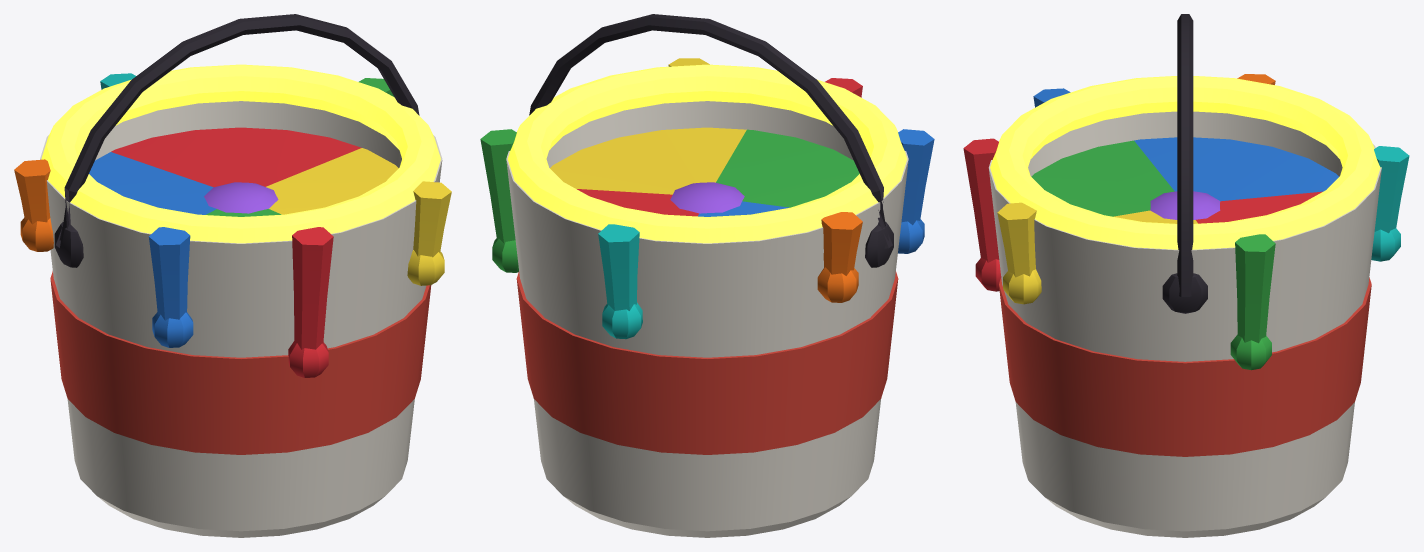
File: paint_bucket.glb
The picture shows the model from 3 angles, left to right: view 1: azimuth 30°, elevation 25°; view 2: azimuth 150°, elevation 25°; view 3: azimuth 270°, elevation 25°; orthographic projection. The views are drawn at different scales.
Visible parts, largest first — view 1: paint_bucket; view 2: paint_bucket; view 3: paint_bucket.
Boxes of the visible parts, <box> form: paint_bucket: <box>14,14,451,537</box>; paint_bucket: <box>480,14,934,537</box>; paint_bucket: <box>963,14,1409,537</box>.
Size of the model in its own units: 0.6193 by 0.7204 by 0.658.
